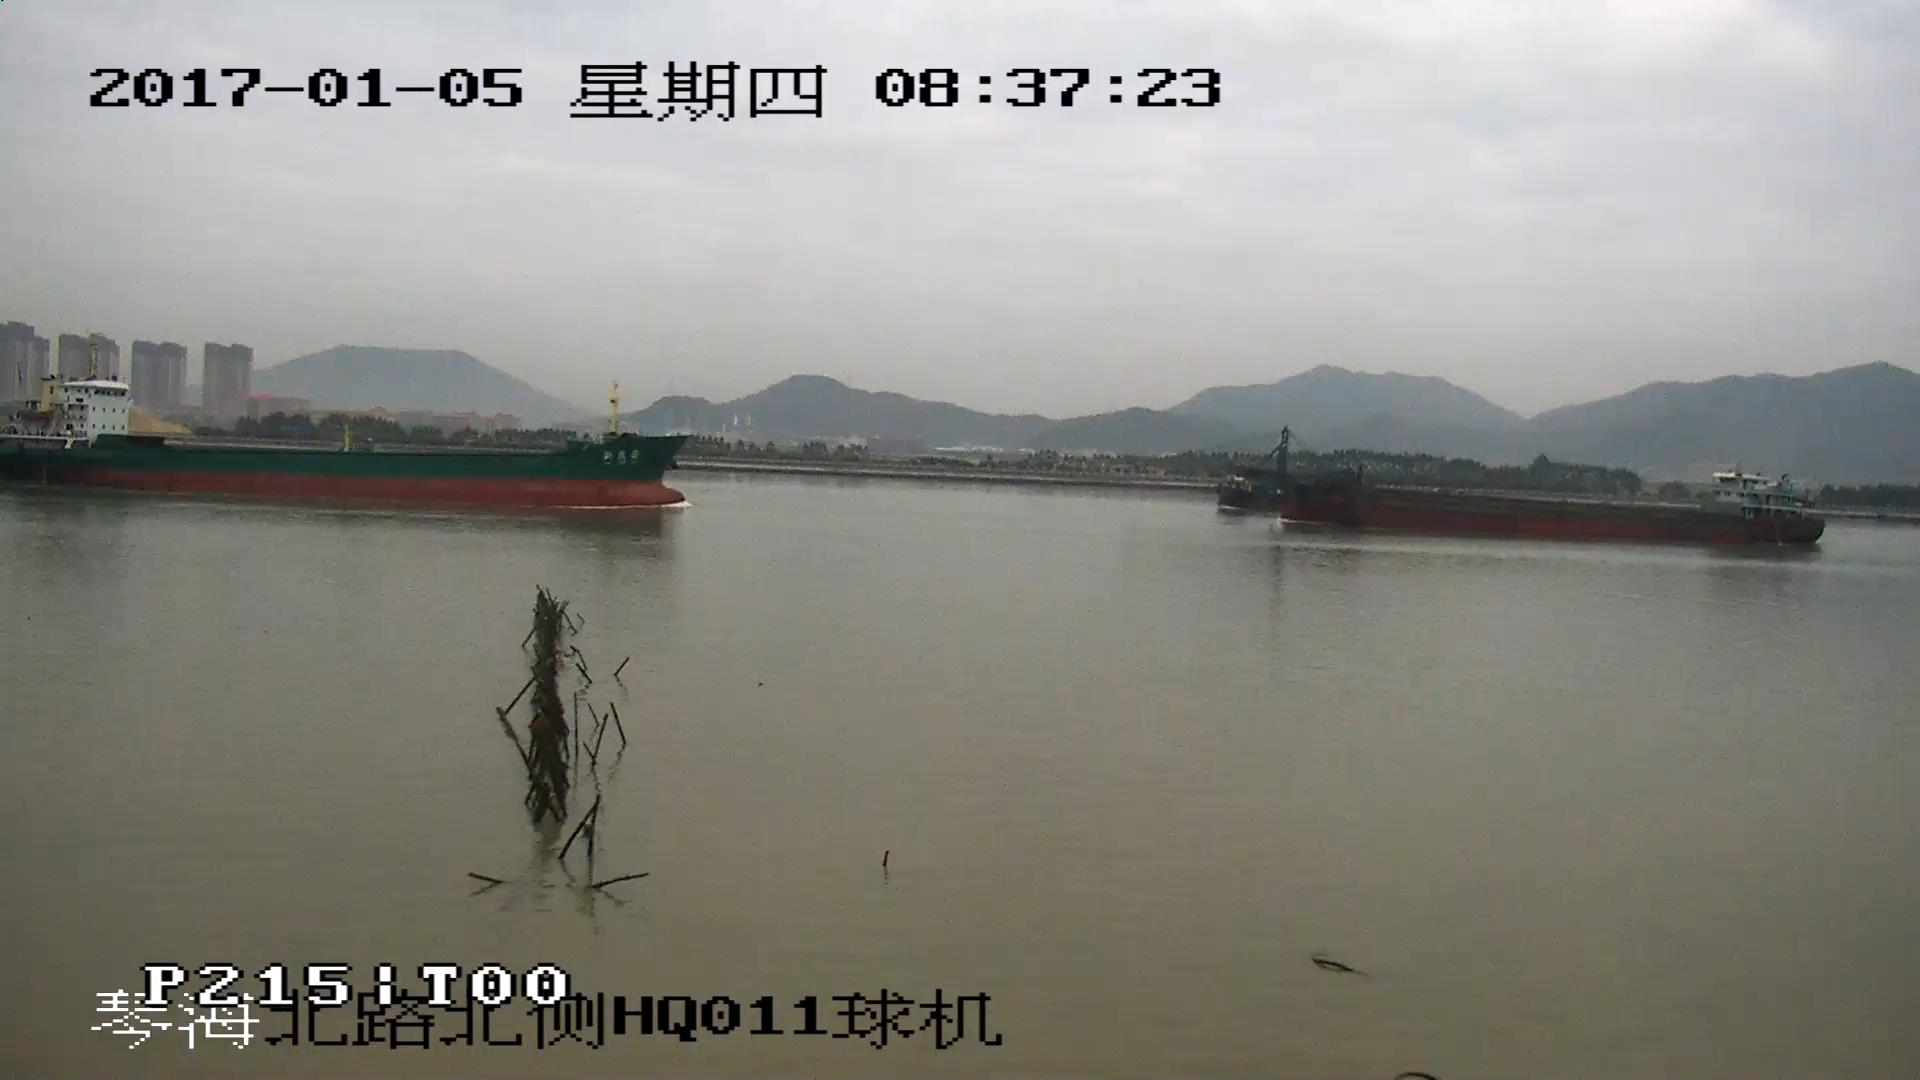bulk cargo carrier: (1227, 437, 1819, 543)
general cargo ship: (1, 340, 688, 506)
